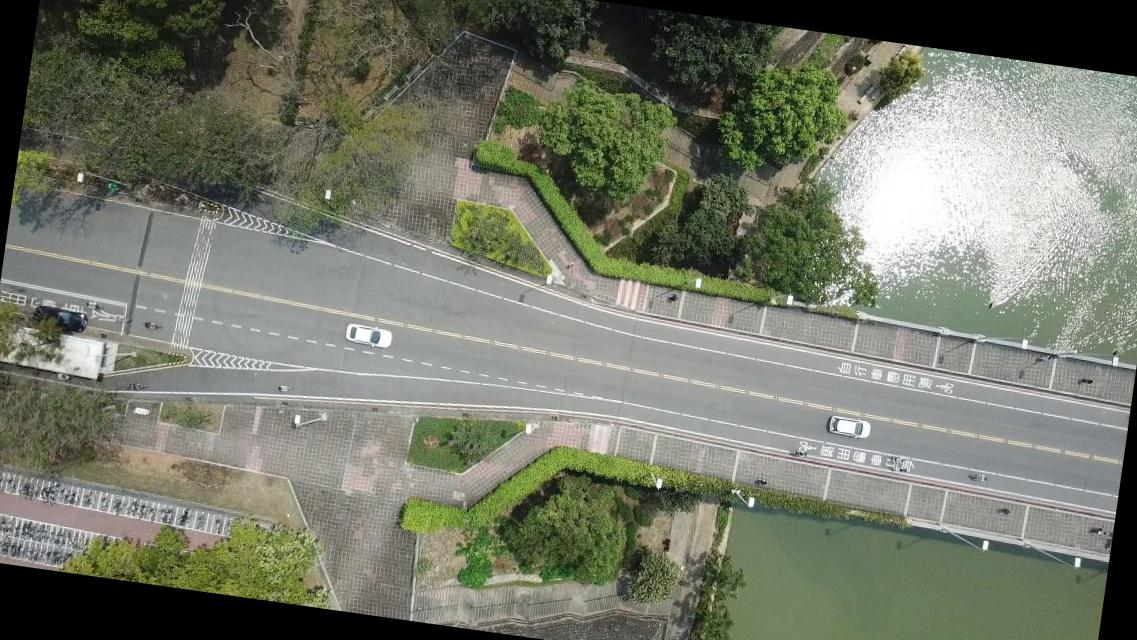vehicle: (32, 304, 88, 334), (345, 322, 393, 350), (826, 413, 872, 441)
